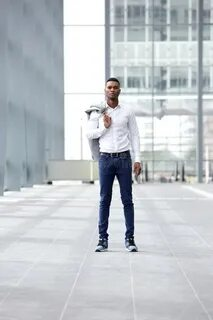awake: (85, 77, 143, 252)
